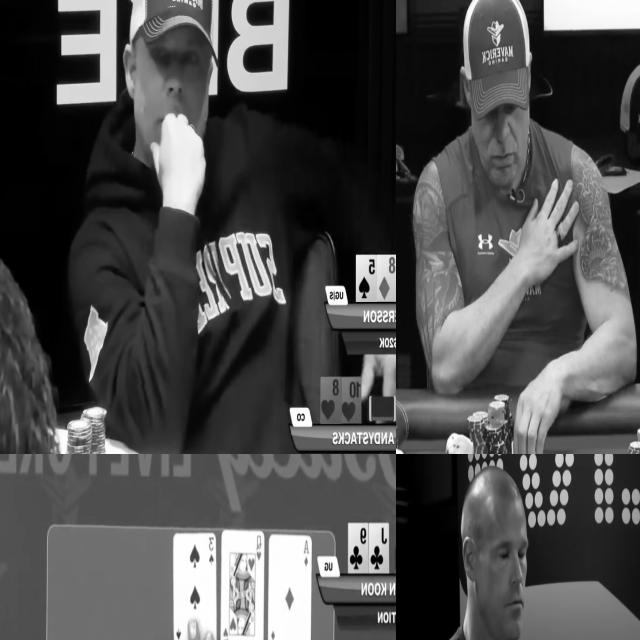10H: (341, 377, 361, 423)
5S: (355, 255, 377, 302)
8D: (376, 254, 396, 300)
8H: (321, 377, 341, 424)
